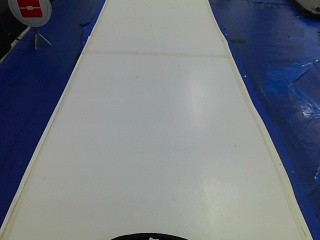company: (7, 0, 52, 30)
